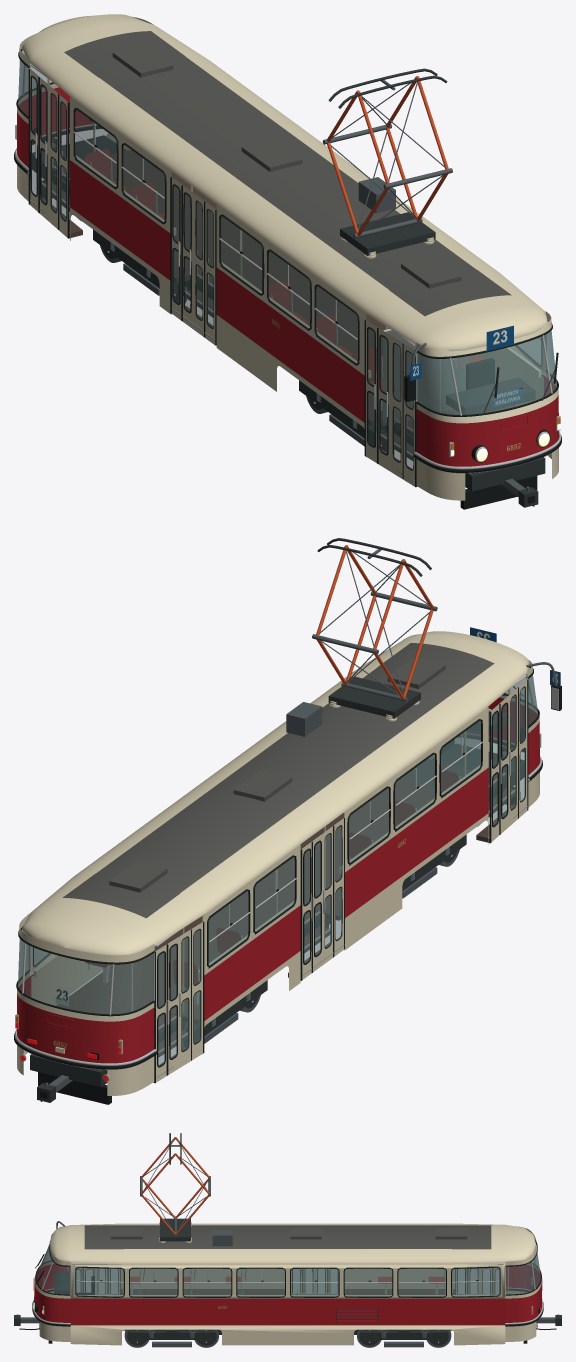
The model's file is tatra-t3-6892.glb.
3 renders of one model, top to bottom at view 1: azimuth 30°, elevation 25°; view 2: azimuth 150°, elevation 25°; view 3: azimuth 270°, elevation 25°, orthographic. The views are drawn at different scales.
Parts seen in each view (by area): view 1: Body_Ivory_enamel, Exterior_details_Roof_grey, Body_Prague_red_enamel, Body_Window_glass, Interior_Floor, Interior_Underframe, Exterior_details_Rubber, Interior_Window_glass, Body_Rubber, Exterior_details_Aluminium, Interior_Red_seat_shell, Interior_Ivory_enamel (+39 smaller); view 2: Body_Ivory_enamel, Exterior_details_Roof_grey, Body_Prague_red_enamel, Body_Window_glass, Interior_Floor, Exterior_details_Rubber, Interior_Underframe, Interior_Ivory_enamel, Exterior_details_Aluminium, Body_Rubber, Pantograph_Underframe, Interior_Window_glass (+22 smaller); view 3: Body_Ivory_enamel, Body_Prague_red_enamel, Body_Window_glass, Exterior_details_Roof_grey, Interior_Ivory_enamel, Body_Rubber, Interior_Floor, Exterior_details_Aluminium, Bogie_1_Underframe, Bogie_2_Underframe, Exterior_details_Rubber, Exterior_details_Prague_red_enamel (+7 smaller).
Boxes of the visible parts, x1,y1,x2,y2 form: Body_Ivory_enamel: [17, 14, 558, 500]; Exterior_details_Roof_grey: [64, 31, 511, 316]; Body_Prague_red_enamel: [17, 87, 558, 466]; Body_Window_glass: [18, 50, 556, 414]; Interior_Floor: [42, 150, 516, 486]; Interior_Underframe: [32, 135, 545, 491]; Exterior_details_Rubber: [14, 49, 561, 509]; Interior_Window_glass: [383, 331, 468, 425]; Body_Rubber: [73, 108, 541, 367]; Exterior_details_Aluminium: [14, 54, 561, 473]; Interior_Red_seat_shell: [85, 149, 484, 390]; Interior_Ivory_enamel: [76, 156, 543, 405]; Body_Ivory_enamel: [17, 631, 539, 1095]; Exterior_details_Roof_grey: [62, 643, 494, 918]; Body_Prague_red_enamel: [17, 697, 539, 1063]; Body_Window_glass: [18, 668, 537, 1013]; Interior_Floor: [57, 759, 514, 1082]; Exterior_details_Rubber: [14, 667, 561, 1104]; Interior_Underframe: [30, 712, 524, 1087]; Interior_Ivory_enamel: [31, 764, 480, 1005]; Exterior_details_Aluminium: [14, 674, 558, 1081]; Body_Rubber: [33, 719, 482, 968]; Pantograph_Underframe: [328, 676, 420, 718]; Interior_Window_glass: [408, 711, 489, 801]; Body_Ivory_enamel: [34, 1223, 541, 1345]; Body_Prague_red_enamel: [34, 1264, 541, 1325]; Body_Window_glass: [36, 1245, 540, 1296]; Exterior_details_Roof_grey: [84, 1225, 491, 1249]; Interior_Ivory_enamel: [78, 1269, 497, 1296]; Body_Rubber: [75, 1266, 500, 1297]; Interior_Floor: [121, 1289, 454, 1294]; Exterior_details_Aluminium: [32, 1245, 543, 1327]; Bogie_1_Underframe: [129, 1329, 214, 1339]; Bogie_2_Underframe: [361, 1329, 446, 1339]; Exterior_details_Rubber: [32, 1239, 543, 1343]; Exterior_details_Prague_red_enamel: [33, 1278, 542, 1322].
Size of the model in its own units: 2.86 by 5.83 by 15.1.
16 materials, 1 textured.
